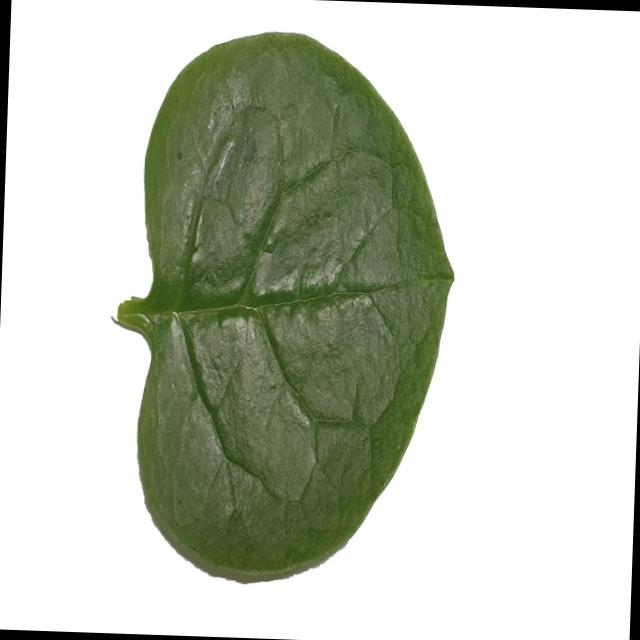Medicinal-Basale: (104, 24, 463, 594)
